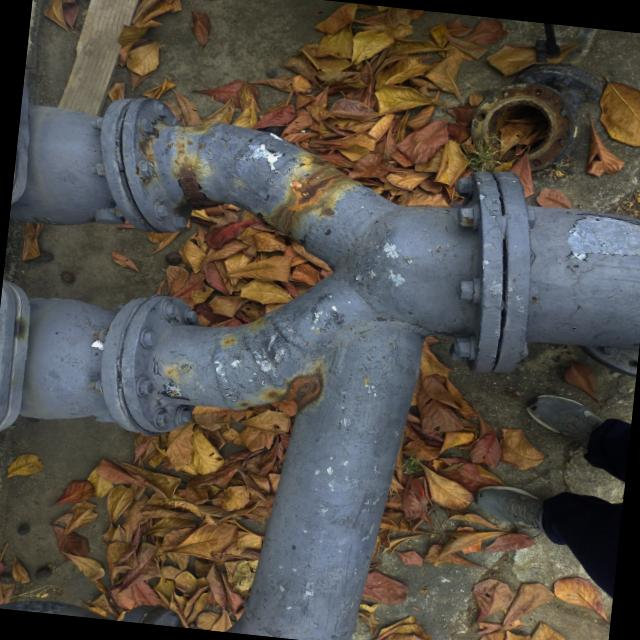gas: (0, 106, 640, 640)
